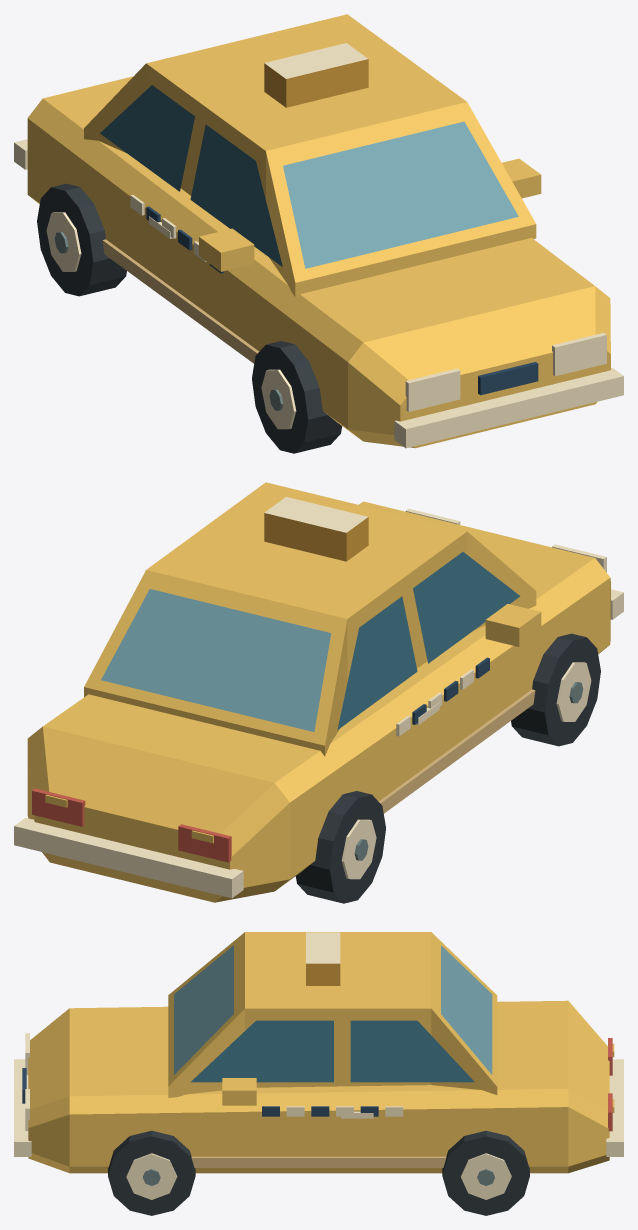
File: taxi.glb
3 views of the same model, one above another, from view 1: azimuth 30°, elevation 25°; view 2: azimuth 150°, elevation 25°; view 3: azimuth 270°, elevation 25° (orthographic). The views are drawn at different scales.
Visible parts, largest first — view 1: taxi; view 2: taxi; view 3: taxi.
Part boxes in pixels (x1,y1,x2,y2): taxi: [14, 14, 623, 453]; taxi: [14, 482, 623, 903]; taxi: [14, 932, 623, 1215].
Size of the model in its own units: 2.1 by 1.71 by 4.45.
1 material, 1 textured.
